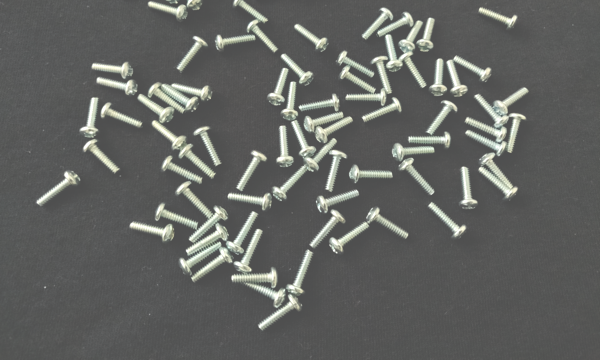shortscrew: (258, 294, 303, 333), (428, 202, 468, 242), (187, 206, 229, 244), (36, 171, 81, 206), (191, 247, 233, 284), (178, 243, 223, 277), (477, 166, 518, 203), (366, 207, 409, 242), (175, 181, 214, 219), (309, 210, 347, 249), (398, 158, 436, 197), (226, 212, 260, 255), (271, 165, 309, 203), (478, 152, 515, 191), (83, 140, 121, 177), (178, 144, 217, 180), (185, 225, 228, 257), (329, 221, 369, 255), (236, 150, 268, 192), (285, 251, 314, 297), (175, 36, 209, 75), (160, 155, 204, 185), (234, 229, 263, 274), (238, 281, 286, 308), (100, 103, 144, 132), (463, 116, 508, 144), (475, 93, 510, 129), (193, 127, 223, 168), (303, 138, 338, 173), (148, 82, 187, 113), (453, 55, 493, 85), (155, 203, 199, 230), (279, 54, 315, 87), (361, 7, 394, 43), (293, 23, 330, 55), (160, 84, 200, 113), (151, 121, 188, 152), (465, 131, 509, 157), (137, 94, 175, 124), (336, 50, 376, 78), (427, 100, 458, 136), (129, 221, 175, 245), (361, 97, 403, 123), (315, 116, 354, 144), (247, 20, 278, 55), (317, 190, 360, 215), (493, 87, 530, 116), (231, 267, 279, 289), (338, 66, 377, 93), (324, 150, 348, 193), (376, 11, 414, 38), (292, 120, 317, 161), (147, 0, 189, 23), (267, 68, 291, 108), (478, 7, 518, 31), (79, 98, 102, 138), (304, 112, 344, 135), (232, 0, 270, 24), (371, 56, 394, 95), (398, 20, 424, 54), (95, 77, 139, 97), (348, 165, 394, 184), (298, 94, 341, 114), (447, 60, 469, 99), (228, 193, 273, 212), (275, 126, 295, 168), (506, 113, 527, 153), (91, 62, 134, 81), (171, 83, 214, 102), (393, 143, 436, 162), (409, 132, 452, 151), (216, 33, 256, 53), (280, 81, 299, 121), (346, 89, 389, 106), (386, 34, 404, 74), (416, 18, 436, 54), (428, 59, 446, 98), (174, 0, 203, 13), (162, 0, 183, 5)
